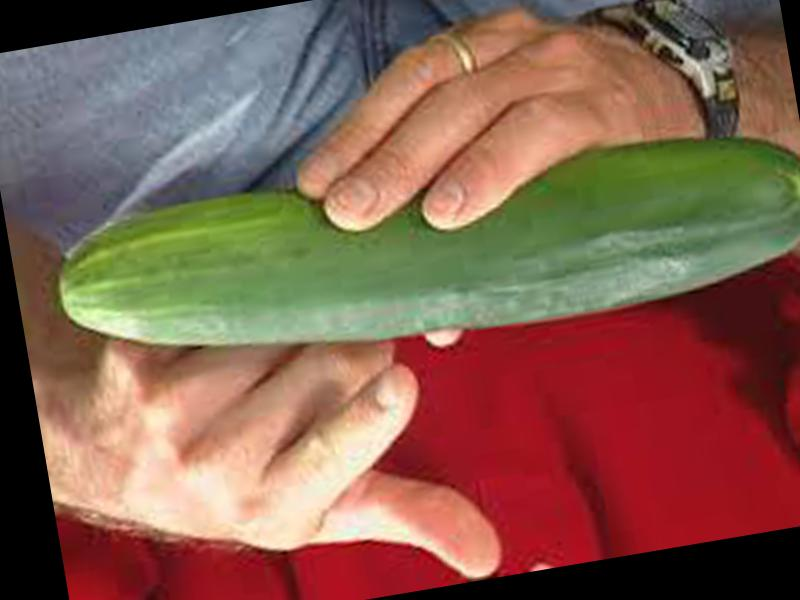Cucumber: (46, 96, 800, 400)
